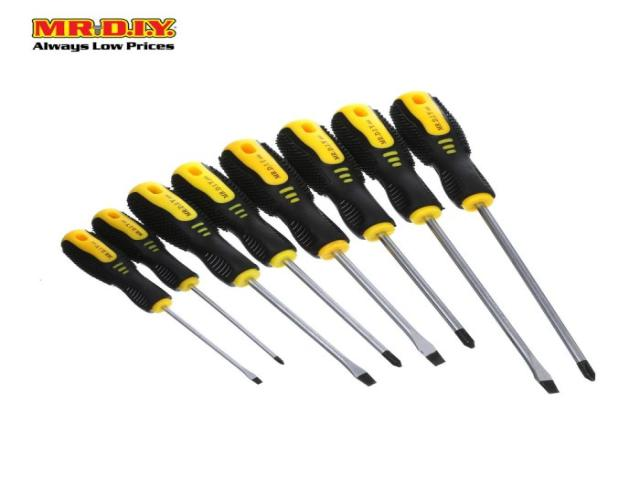Screwdriver: (331, 103, 558, 393), (390, 91, 595, 381), (220, 139, 444, 365), (128, 182, 375, 385), (171, 161, 401, 366), (278, 119, 472, 347), (61, 230, 261, 384), (91, 209, 282, 364)
